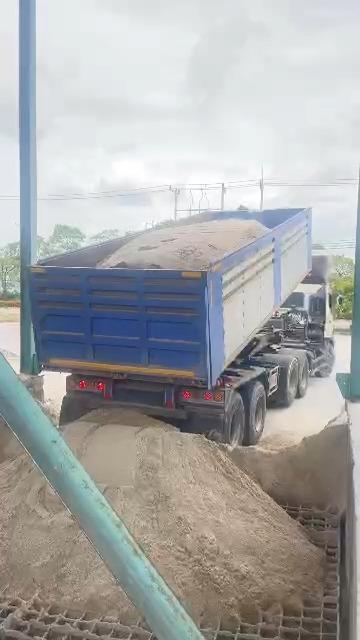sand: (65, 411, 321, 627), (0, 455, 138, 621), (229, 414, 351, 511), (98, 218, 268, 269), (20, 373, 58, 424), (0, 416, 23, 462)
